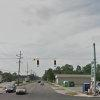Traffic light: (29, 57, 68, 71)
